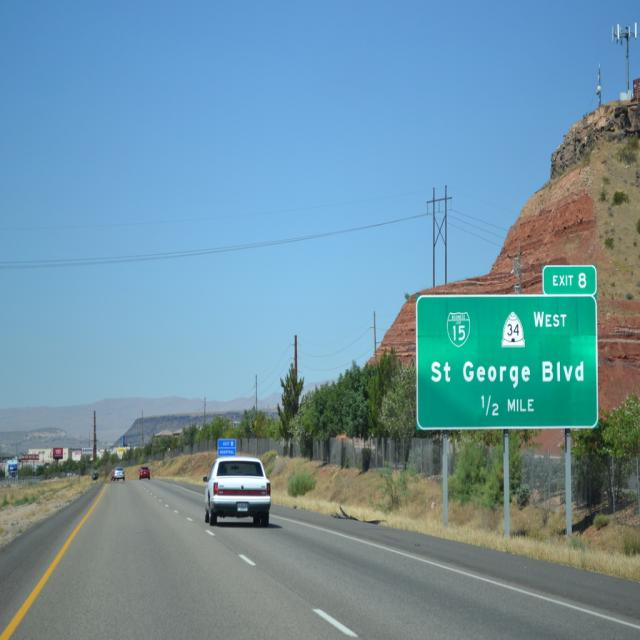car: (201, 453, 267, 530), (138, 463, 150, 476), (114, 468, 124, 477)
